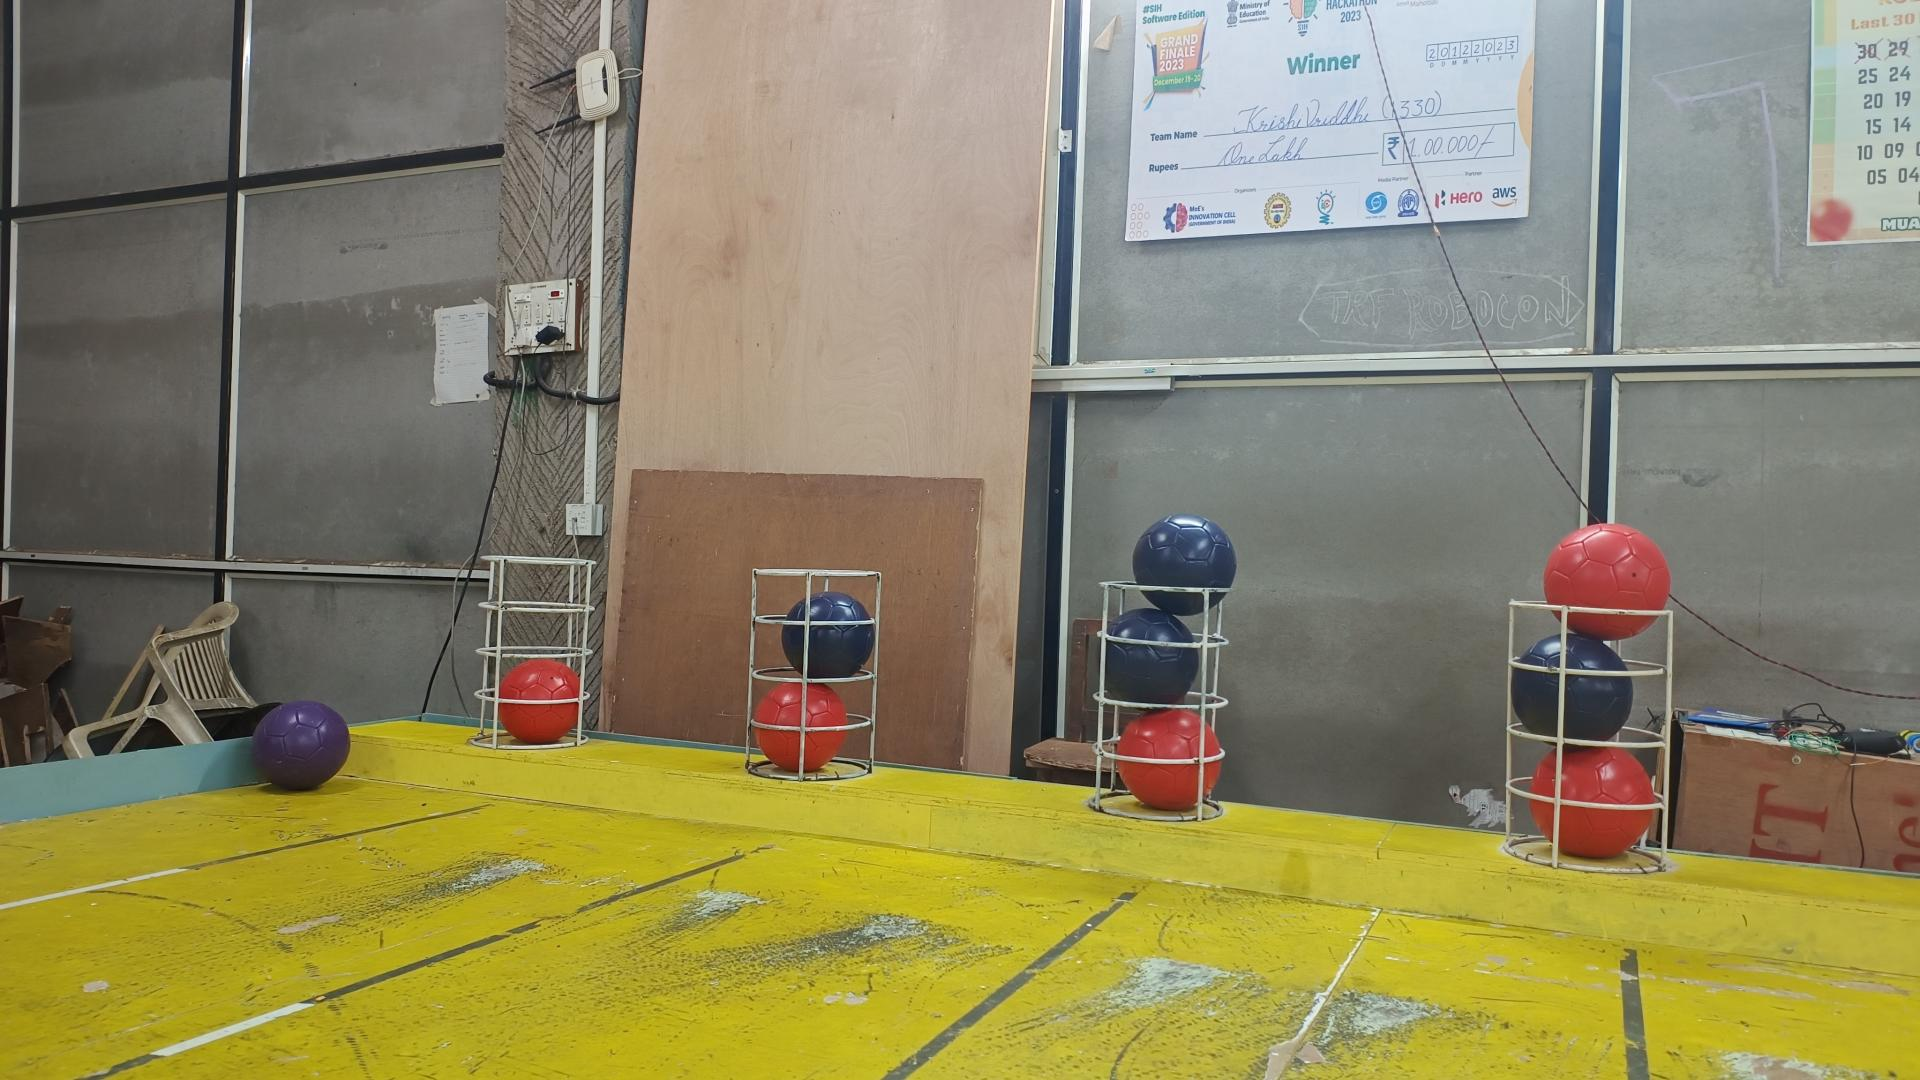dhoka: (1511, 633, 1635, 745), (1133, 516, 1237, 617), (1093, 607, 1201, 704), (783, 591, 877, 680)
laale: (1543, 522, 1671, 642), (1527, 748, 1655, 861), (1114, 709, 1218, 811), (753, 680, 847, 771), (500, 659, 582, 745)
